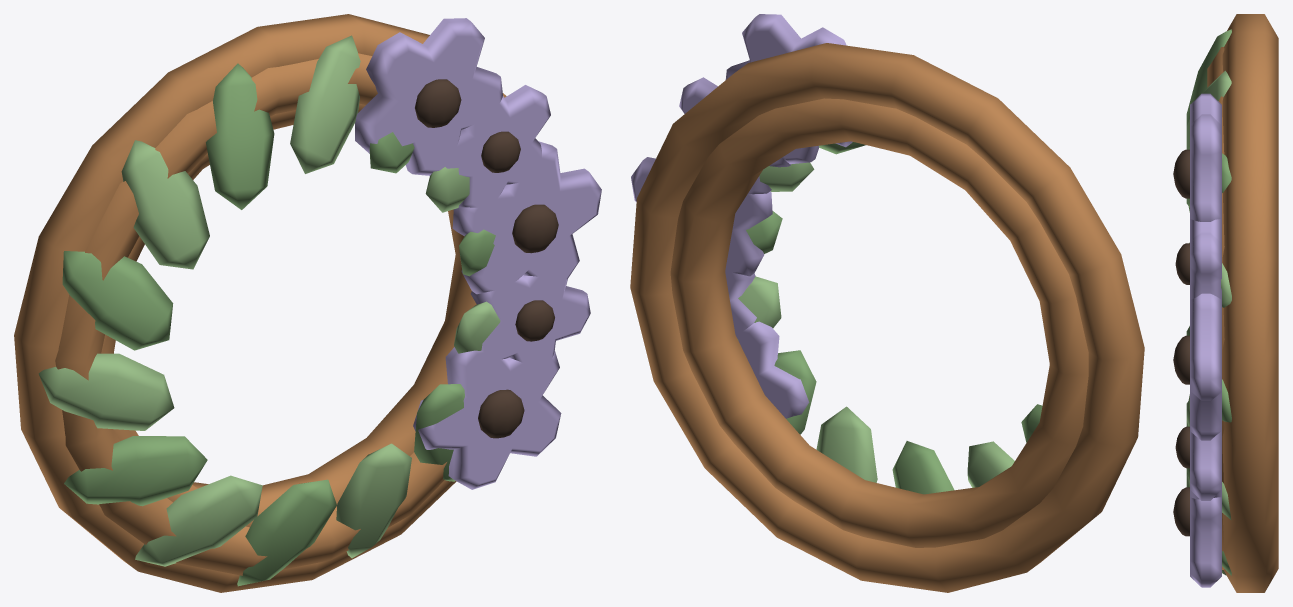
The model's file is chic_windflower_wreath.glb.
3 renders of one model, left to right at view 1: azimuth 30°, elevation 25°; view 2: azimuth 150°, elevation 25°; view 3: azimuth 270°, elevation 25°, orthographic. The views are drawn at different scales.
Visible parts, largest first — view 1: chic_windflower_wreath_mesh; view 2: chic_windflower_wreath_mesh; view 3: chic_windflower_wreath_mesh.
Boxes of the visible parts, x1,y1,x2,y2 form: chic_windflower_wreath_mesh: [14, 14, 601, 592]; chic_windflower_wreath_mesh: [630, 14, 1144, 592]; chic_windflower_wreath_mesh: [1173, 14, 1278, 592].
Bounding box in the file's own units: 0.4759 × 0.4528 × 0.0827.
